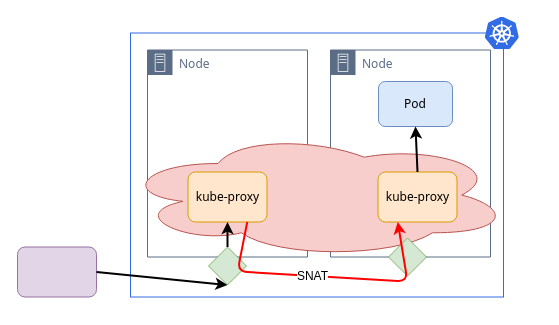
Image size: 559x325. Some labels were removed from this diagram. The shapes that lost their labels are listed below. From the top down, each one's box as (x1, y1, x2, y2) in pixels, then its label:
(120, 131, 510, 258): Service NodePort
(16, 246, 96, 297): Client
